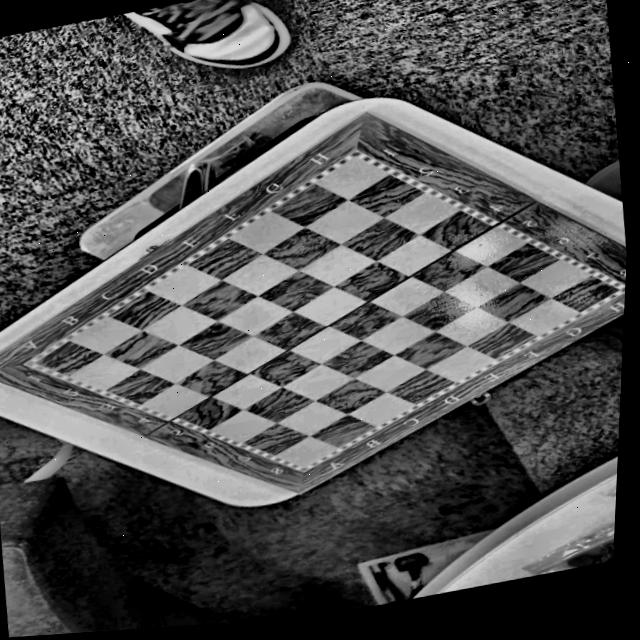chessboard: (0, 119, 627, 490)
